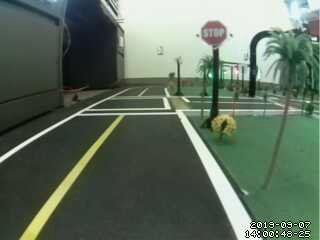Stop_Sign: (194, 17, 238, 54)
